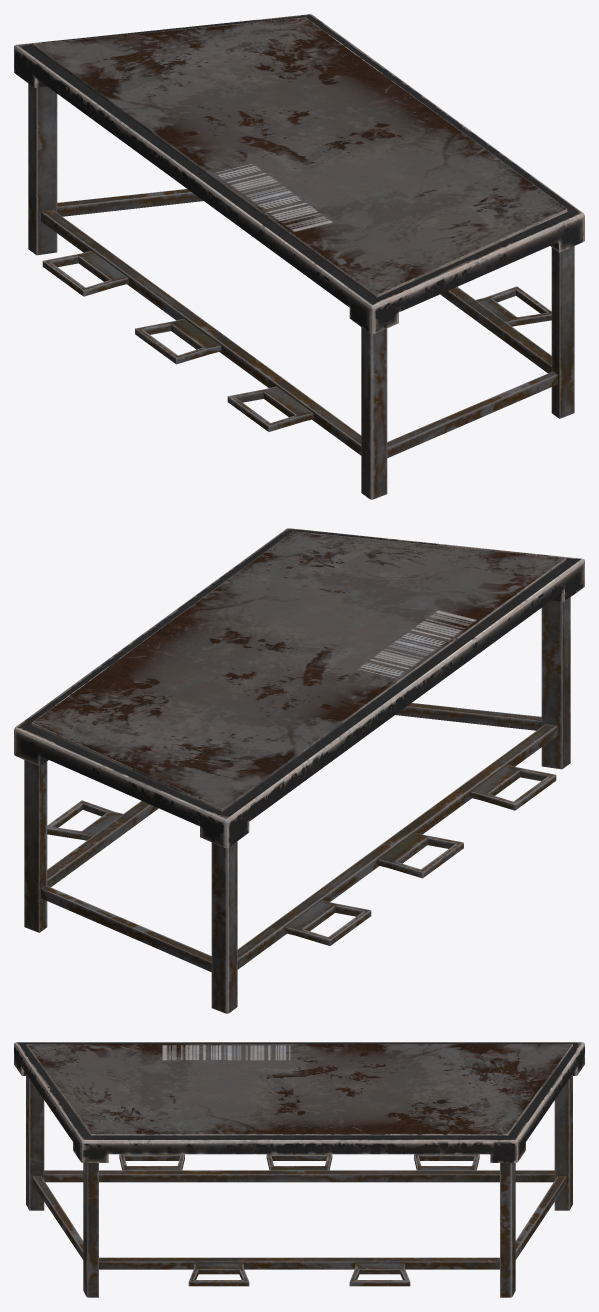
Rendered from SM_Tables_LP_Eating_Table1.fbx.
The picture shows the model from 3 angles, top to bottom: view 1: azimuth 30°, elevation 25°; view 2: azimuth 150°, elevation 25°; view 3: azimuth 270°, elevation 25°; orthographic projection. The views are drawn at different scales.
Visible parts, largest first — view 1: SM_Tables_LP_Eating_Table1_LOD0; view 2: SM_Tables_LP_Eating_Table1_LOD0; view 3: SM_Tables_LP_Eating_Table1_LOD0.
Boxes of the visible parts, box(x1,y1,x2,y2) form: SM_Tables_LP_Eating_Table1_LOD0: box(14, 14, 584, 499); SM_Tables_LP_Eating_Table1_LOD0: box(14, 528, 584, 1013); SM_Tables_LP_Eating_Table1_LOD0: box(14, 1042, 584, 1297).
Size of the model in its own units: 180 by 339 by 106.
1 material, 1 textured.
